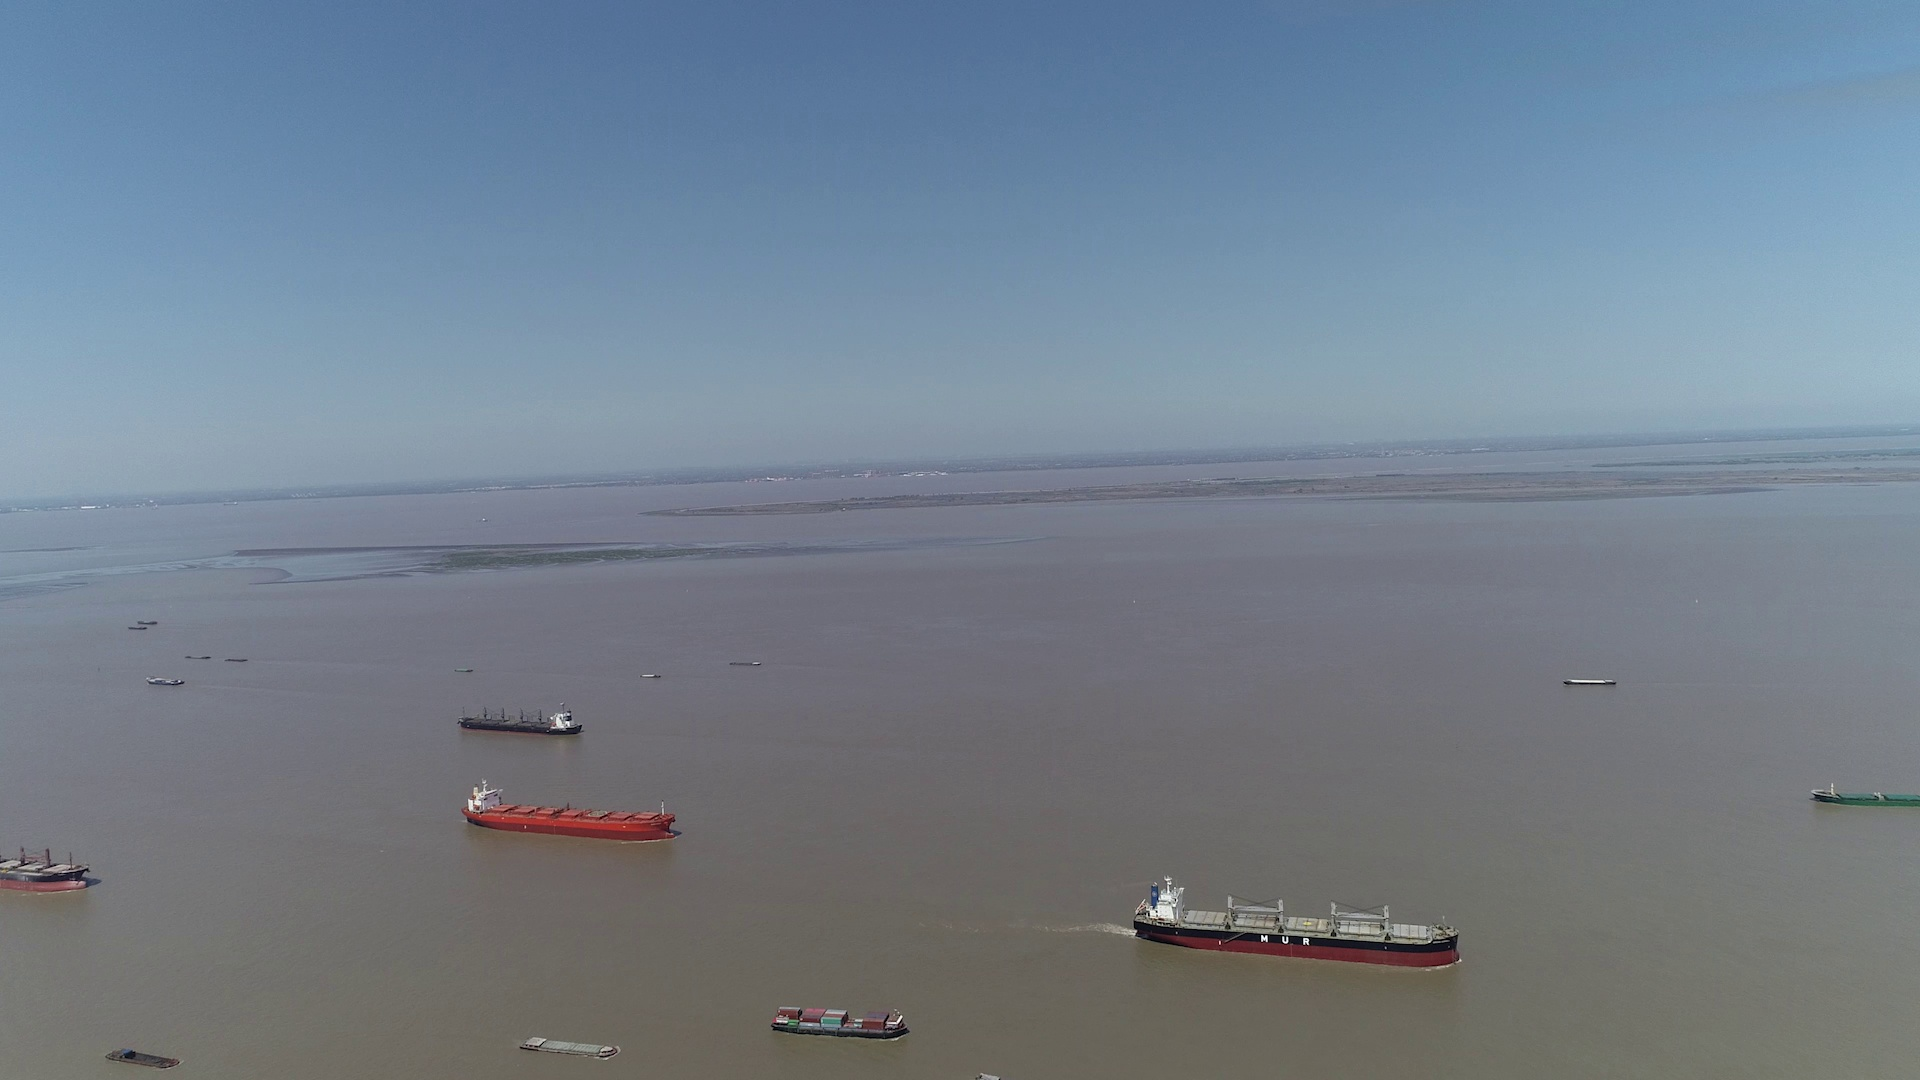ship: (1133, 877, 1460, 969), (465, 777, 679, 843), (1, 833, 94, 894), (771, 1004, 909, 1040), (459, 703, 582, 736), (1811, 785, 1919, 808), (517, 1035, 622, 1058), (105, 1048, 179, 1069), (1560, 676, 1615, 686), (146, 676, 186, 686)
